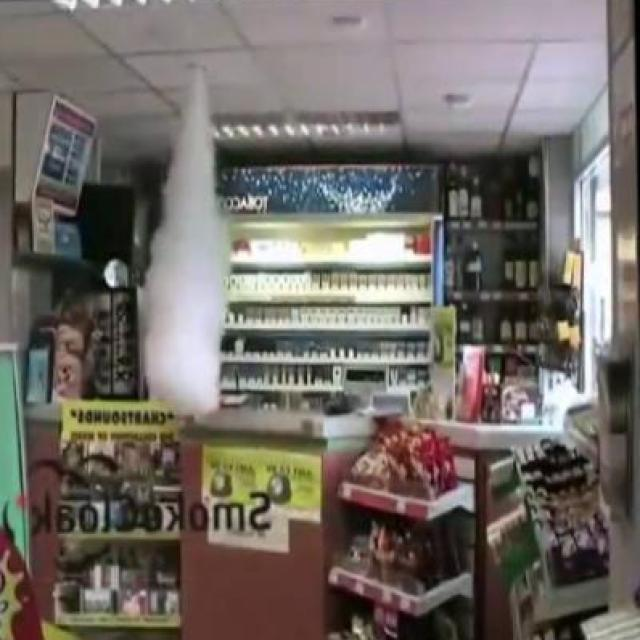fire: (132, 59, 235, 424)
